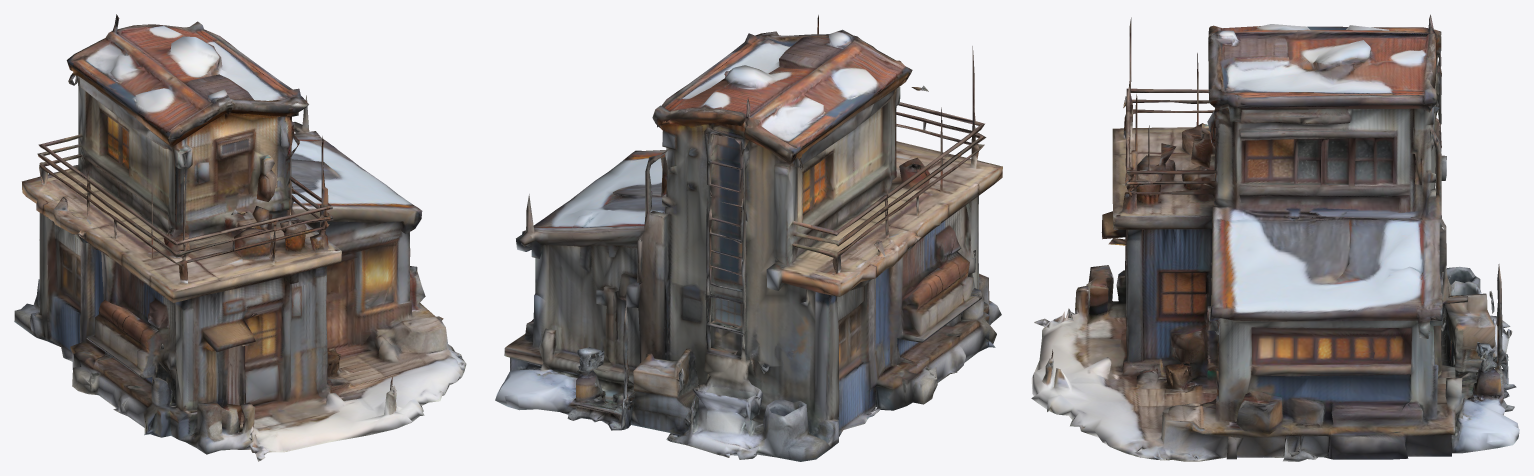
File: winter_cabin.glb
The picture shows the model from 3 angles, left to right: view 1: azimuth 30°, elevation 25°; view 2: azimuth 150°, elevation 25°; view 3: azimuth 270°, elevation 25°; orthographic projection. The views are drawn at different scales.
Size of the model in its own units: 1.67 by 1.48 by 1.97.
1 material, 1 textured.
